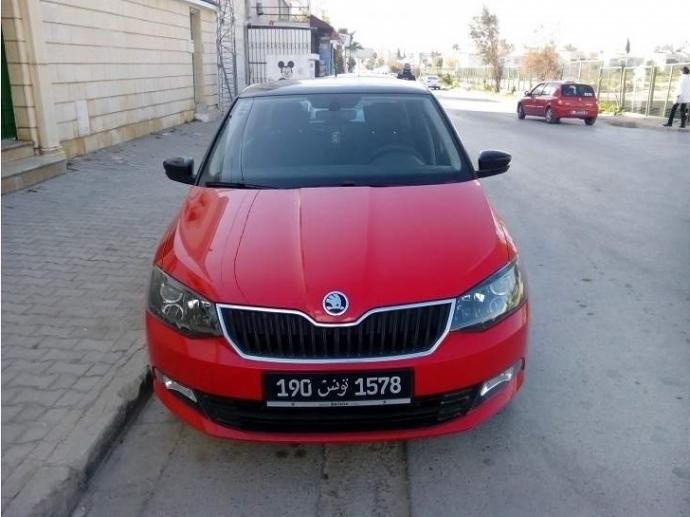LP: (263, 370, 416, 404)
